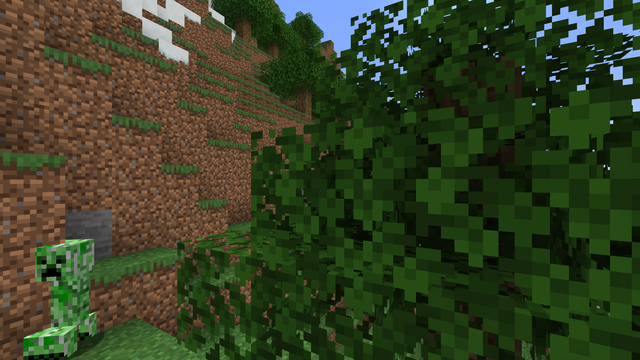creepers: (34, 233, 96, 358)
